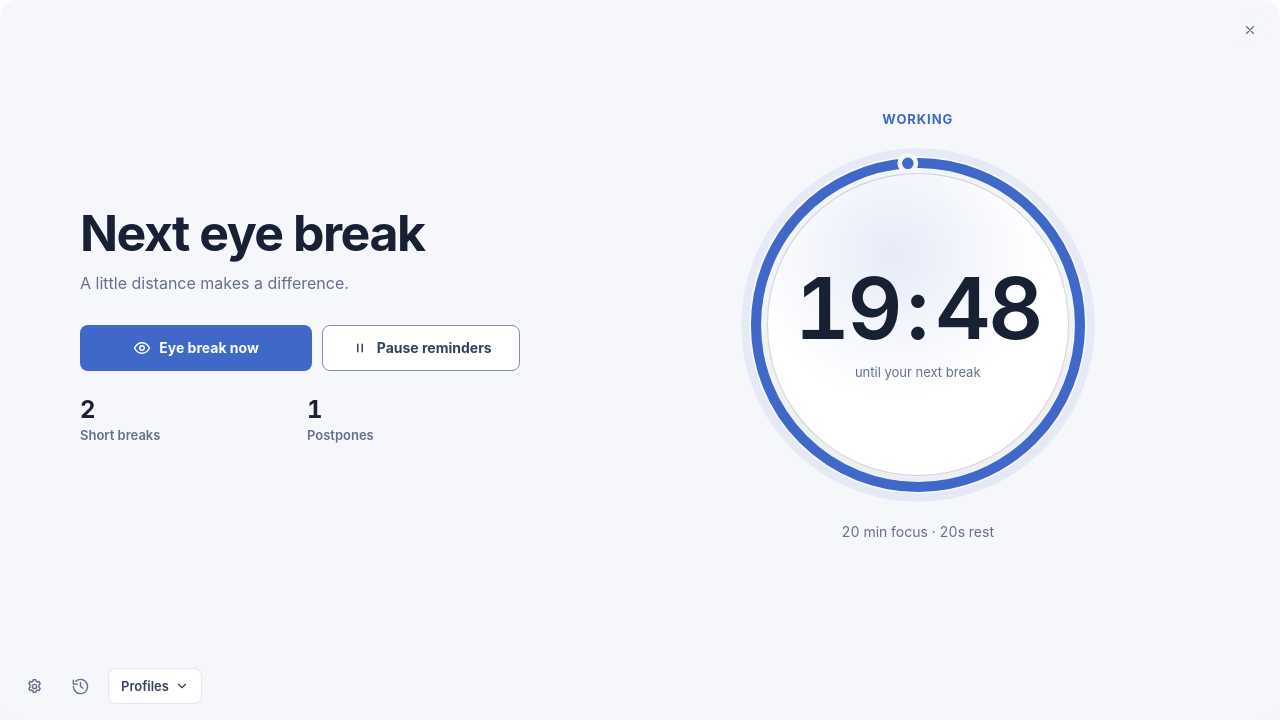
it: PausIO app experience › anchors settings and profile switching in a quiet dock at the bottom-left
The width and height of the screenshot is (1280, 720).
Expected: the element named "Settings" is shown, [16,668,202,704]
Click the button "Profiles".
click(155, 686)  # box [108,668,202,704]
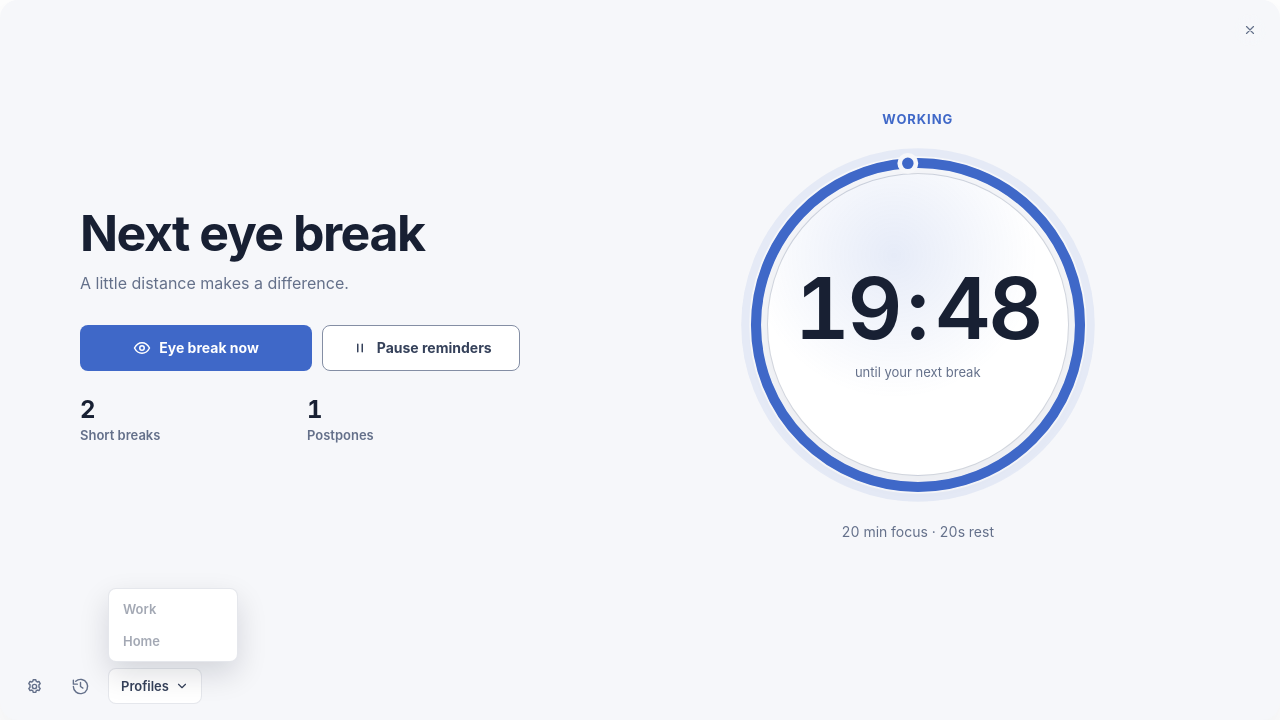
Now the menu item "Work" is disabled, box [113,593,233,625]
Now the menu item "Home" is disabled, box [113,625,233,657]
